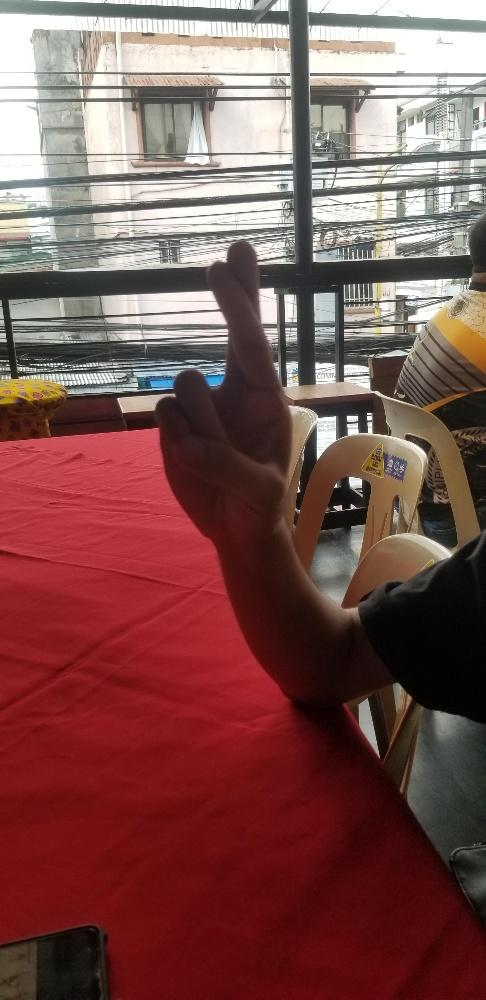r: (153, 236, 295, 547)
